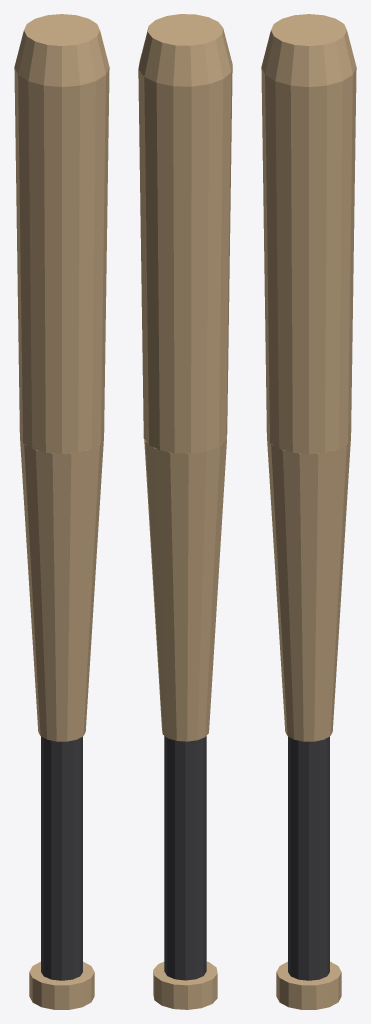
File: bat.glb
3 views of the same model, side by side, from view 1: azimuth 90°, elevation 25°; view 2: azimuth 210°, elevation 25°; view 3: azimuth 270°, elevation 25° (orthographic).
Visible parts, largest first — view 1: Barrel, Taper, Handle, EndCap, Knob; view 2: Barrel, Taper, Handle, EndCap, Knob; view 3: Barrel, Taper, Handle, EndCap, Knob.
Boxes of the visible parts, <box> form: Barrel: <box>14,67,109,453</box>; Taper: <box>20,437,103,741</box>; Handle: <box>41,736,82,980</box>; EndCap: <box>14,14,109,86</box>; Knob: <box>29,961,94,1009</box>; Barrel: <box>138,65,232,453</box>; Taper: <box>144,437,226,741</box>; Handle: <box>164,736,206,980</box>; EndCap: <box>138,14,232,86</box>; Knob: <box>153,961,217,1009</box>; Barrel: <box>261,67,356,453</box>; Taper: <box>267,437,350,741</box>; Handle: <box>288,736,329,980</box>; EndCap: <box>261,14,356,86</box>; Knob: <box>276,961,341,1009</box>.
Bounding box in the file's own units: 0.07 × 0.785 × 0.07.
